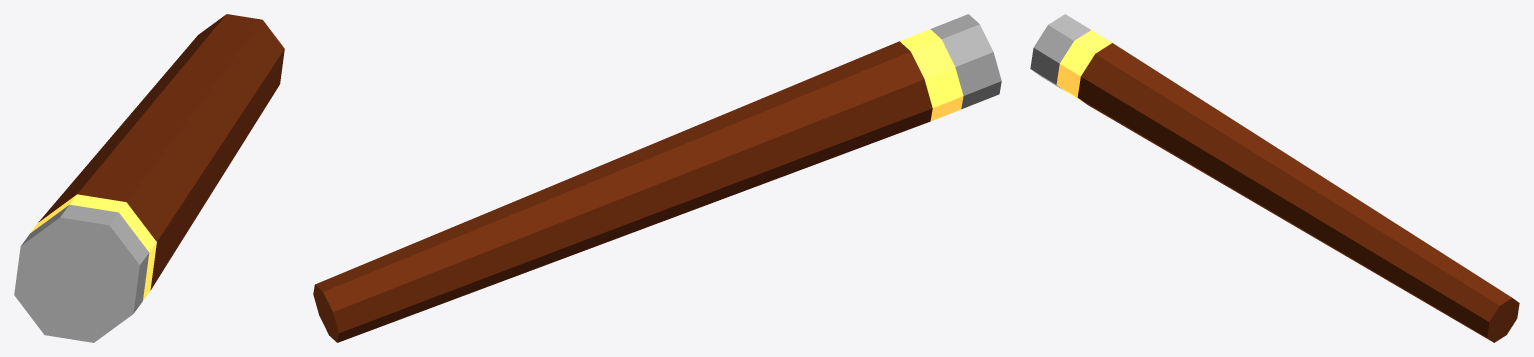
The model's file is blunt.glb.
3 views of the same model, side by side, from view 1: azimuth 30°, elevation 25°; view 2: azimuth 150°, elevation 25°; view 3: azimuth 270°, elevation 25° (orthographic). The views are drawn at different scales.
Visible parts, largest first — view 1: Cylinder.021; view 2: Cylinder.021; view 3: Cylinder.021.
Boxes of the visible parts, x1=… form: Cylinder.021: x1=14, y1=14, x2=284, y2=342; Cylinder.021: x1=313, y1=14, x2=1001, y2=342; Cylinder.021: x1=1030, y1=14, x2=1519, y2=342.
Size of the model in its own units: 0.2138 by 0.1008 by 0.2563.
